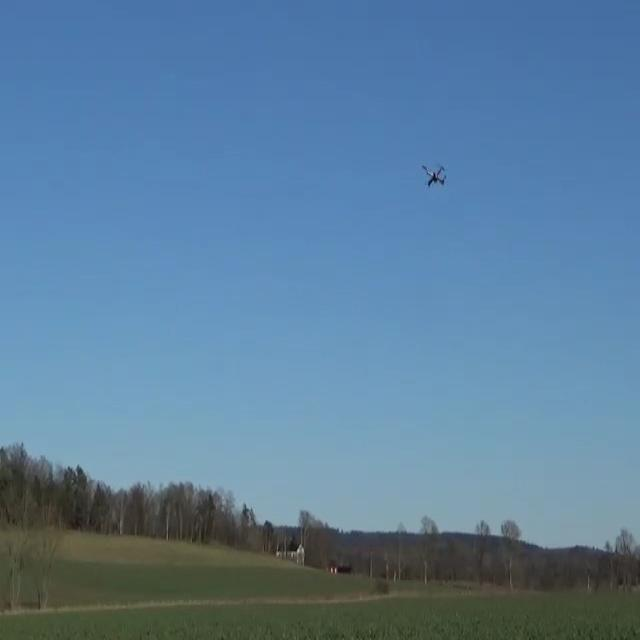drone: (422, 161, 448, 188)
